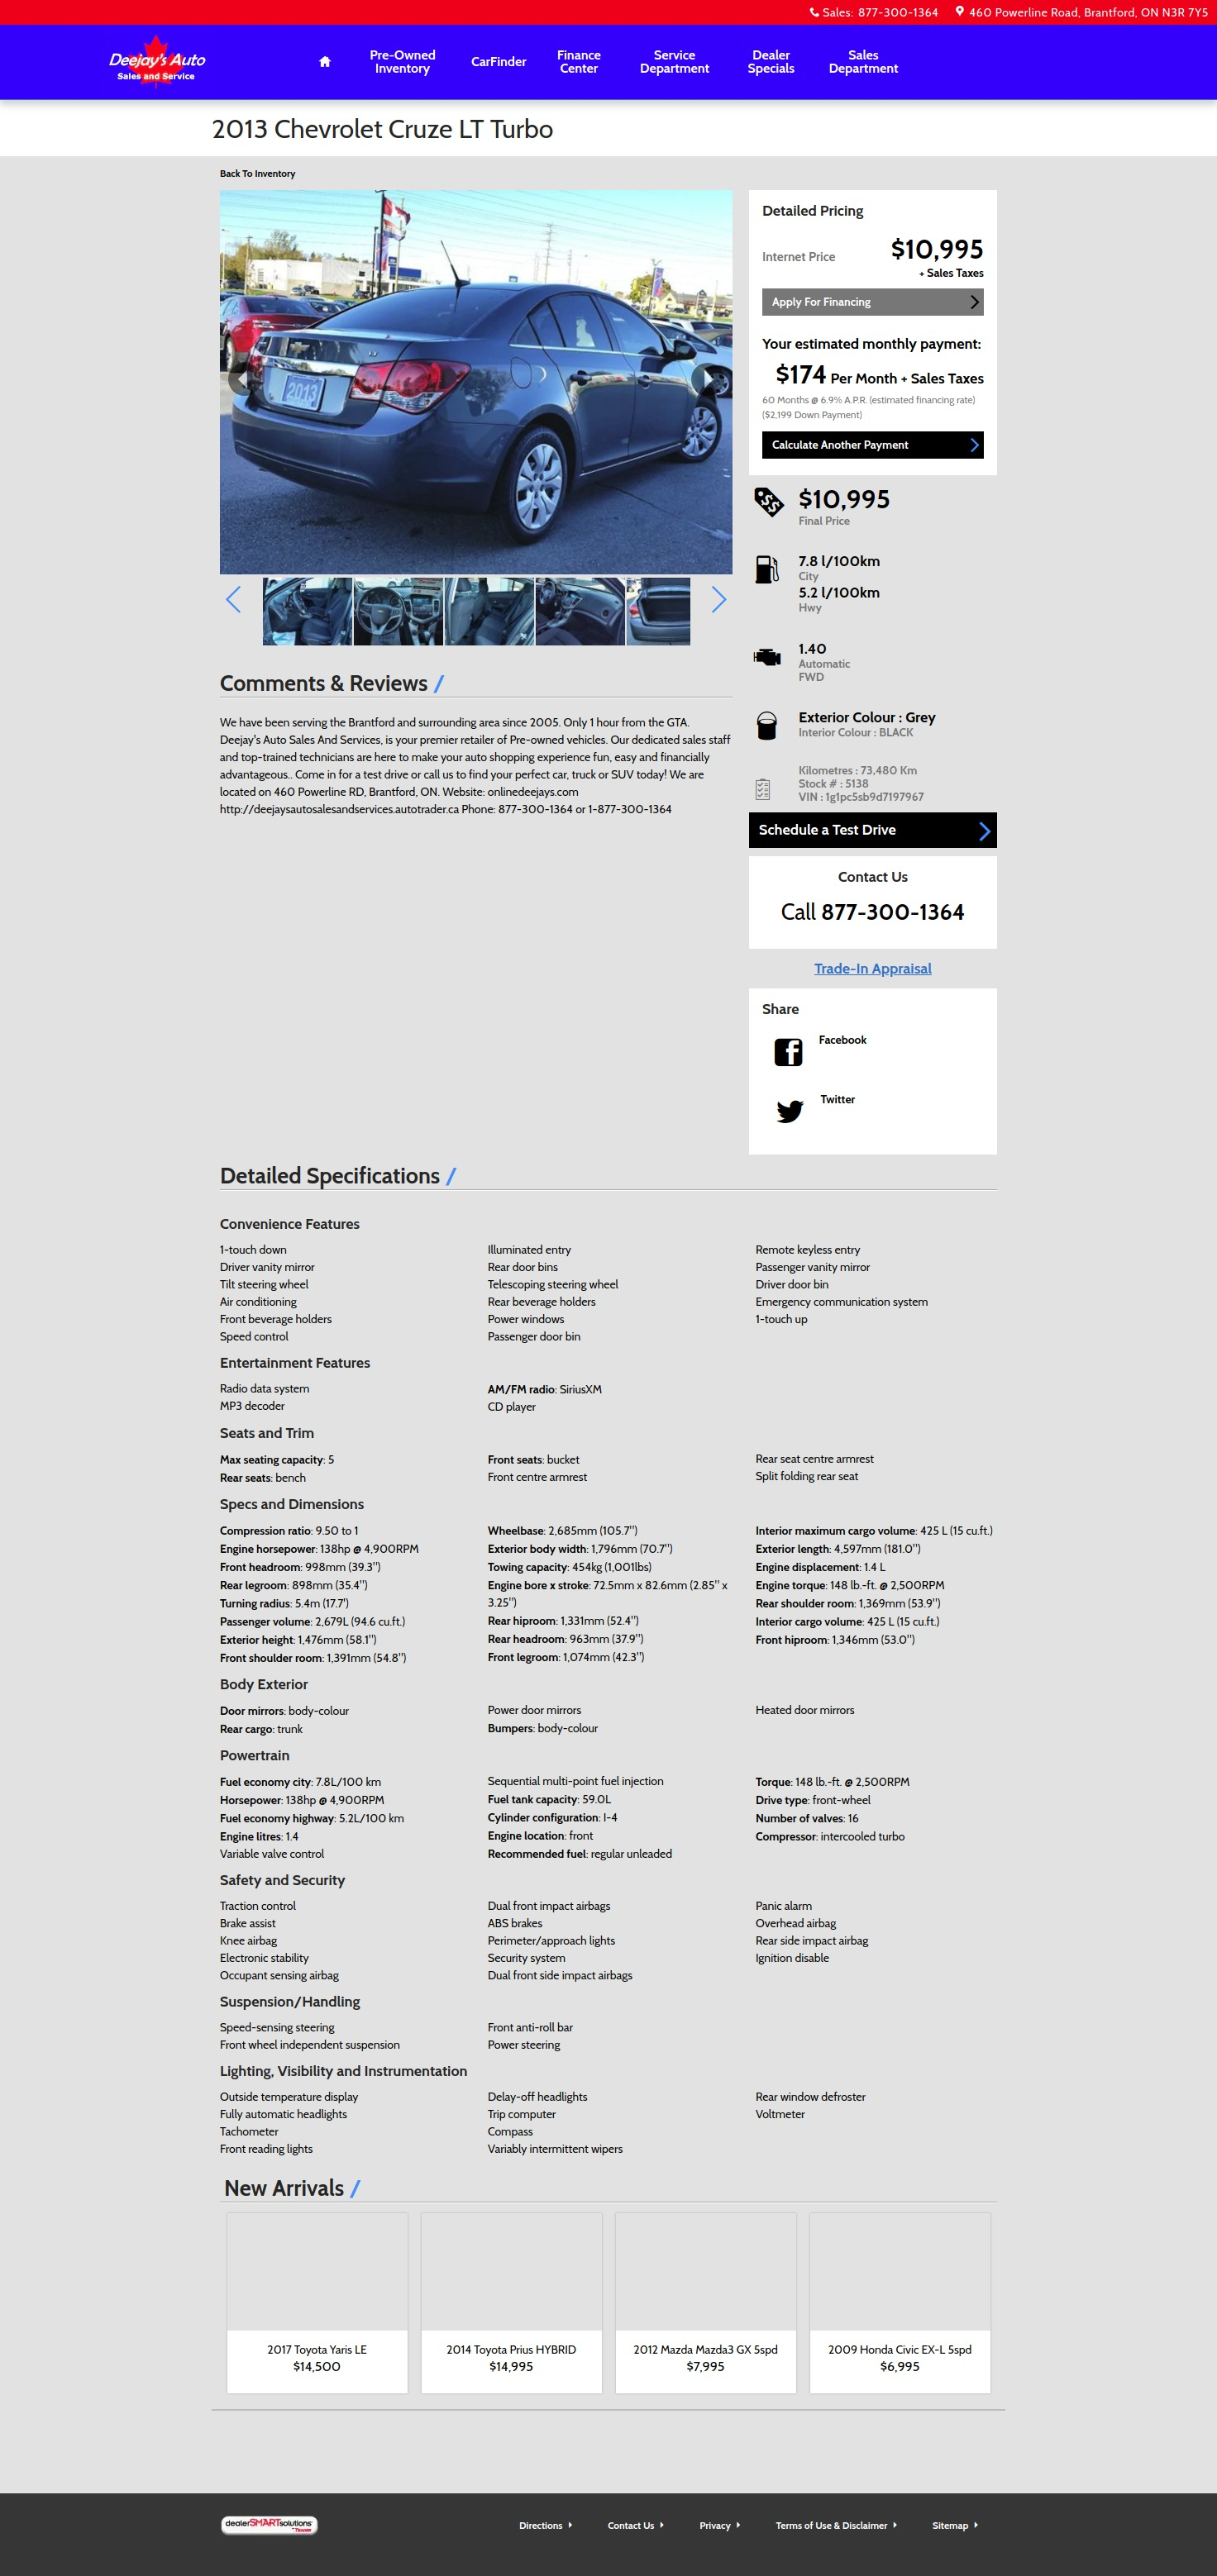car: (712, 587, 727, 614)
